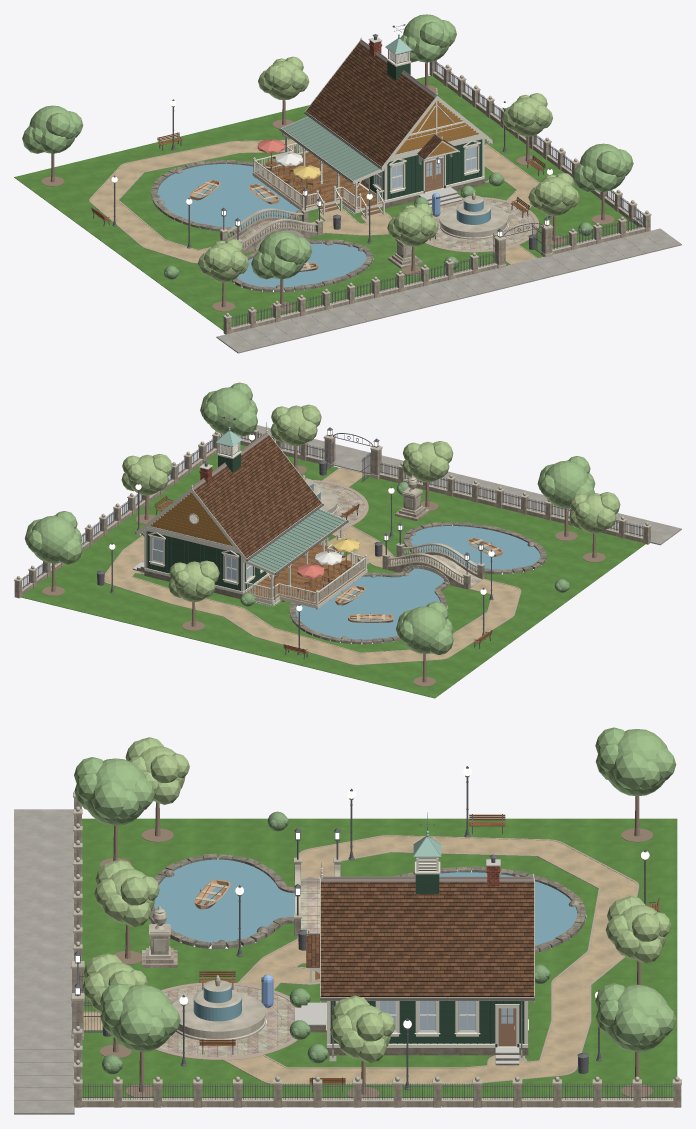
The model's file is building_assembled.glb.
The picture shows the model from 3 angles, top to bottom: view 1: azimuth 30°, elevation 25°; view 2: azimuth 150°, elevation 25°; view 3: azimuth 270°, elevation 25°; orthographic projection. The views are drawn at different scales.
Parts seen in each view (by area): view 1: geometry_351, geometry_352, geometry_339, geometry_349, geometry_154, geometry_340, geometry_153, geometry_158, geometry_489, geometry_477, geometry_495, geometry_346 (+19 smaller); view 2: geometry_351, geometry_339, geometry_349, geometry_352, geometry_154, geometry_340, geometry_483, geometry_477, geometry_489, geometry_158, geometry_153, geometry_495 (+21 smaller); view 3: geometry_351, geometry_349, geometry_352, geometry_339, geometry_199, geometry_183, geometry_187, geometry_195, geometry_191, geometry_495, geometry_477, geometry_489 (+22 smaller).
Boxes of the visible parts, bbox=[...] form: geometry_351: bbox=[14, 75, 638, 330]; geometry_352: bbox=[216, 228, 681, 353]; geometry_339: bbox=[157, 164, 366, 289]; geometry_349: bbox=[90, 140, 538, 263]; geometry_154: bbox=[252, 116, 385, 218]; geometry_340: bbox=[151, 160, 372, 291]; geometry_153: bbox=[255, 152, 382, 215]; geometry_158: bbox=[282, 116, 379, 180]; geometry_489: bbox=[572, 143, 633, 191]; geometry_477: bbox=[22, 105, 83, 153]; geometry_495: bbox=[251, 231, 312, 279]; geometry_346: bbox=[427, 199, 534, 250]; geometry_351: bbox=[21, 444, 645, 698]; geometry_339: bbox=[296, 526, 540, 641]; geometry_349: bbox=[104, 468, 519, 664]; geometry_352: bbox=[220, 425, 681, 545]; geometry_154: bbox=[242, 508, 367, 608]; geometry_340: bbox=[289, 522, 546, 644]; geometry_483: bbox=[24, 511, 82, 564]; geometry_477: bbox=[396, 601, 453, 654]; geometry_489: bbox=[200, 382, 257, 436]; geometry_158: bbox=[248, 508, 345, 572]; geometry_153: bbox=[246, 543, 365, 604]; geometry_495: bbox=[537, 456, 595, 508]; geometry_351: bbox=[82, 818, 677, 1105]; geometry_349: bbox=[83, 836, 637, 1083]; geometry_352: bbox=[14, 809, 74, 1114]; geometry_339: bbox=[154, 859, 577, 945]; geometry_199: bbox=[320, 882, 367, 996]; geometry_183: bbox=[487, 882, 534, 996]; geometry_187: bbox=[447, 882, 487, 996]; geometry_195: bbox=[367, 882, 407, 996]; geometry_191: bbox=[407, 882, 447, 996]; geometry_495: bbox=[74, 757, 154, 825]; geometry_477: bbox=[595, 727, 676, 796]; geometry_489: bbox=[100, 983, 180, 1051].
Size of the model in its own units: 35.99 by 11.69 by 33.44.
48 materials, 17 textured.
